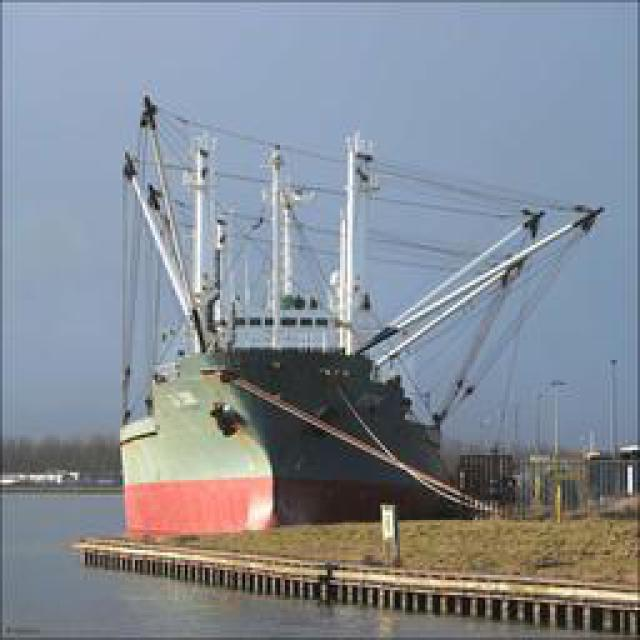Ship: (111, 80, 599, 548)
